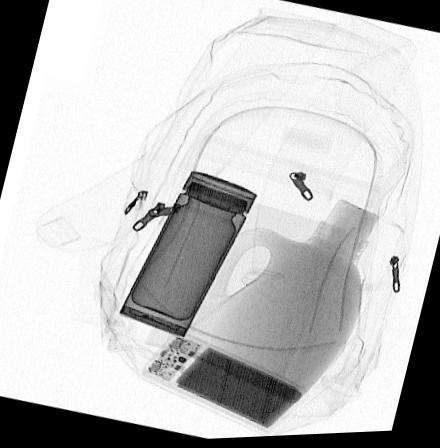Powerbank: (140, 329, 308, 433)
